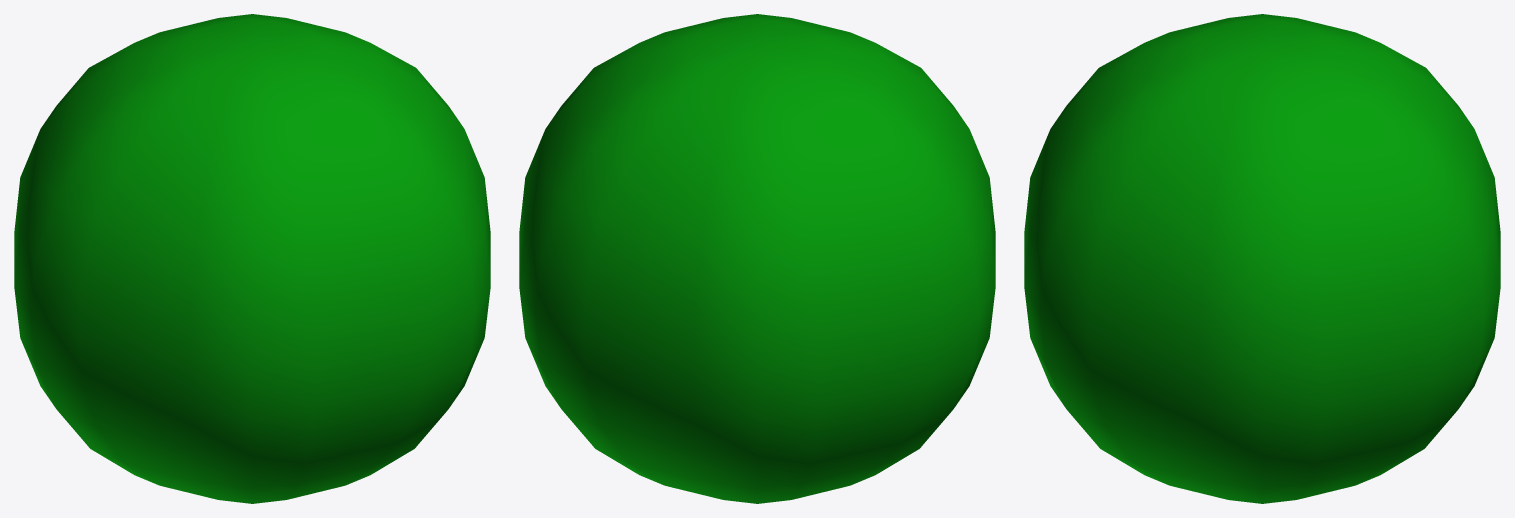
The model's file is BeachBall.fbx.
3 renders of one model, left to right at view 1: azimuth 30°, elevation 25°; view 2: azimuth 150°, elevation 25°; view 3: azimuth 270°, elevation 25°, orthographic.
Visible parts, largest first — view 1: BeachBall_low; view 2: BeachBall_low; view 3: BeachBall_low.
Part boxes in pixels (x1=…): BeachBall_low: x1=14, y1=14, x2=490, y2=503; BeachBall_low: x1=519, y1=14, x2=995, y2=503; BeachBall_low: x1=1024, y1=14, x2=1500, y2=503.
Bounding box in the file's own units: 46.02 × 42.46 × 42.75.
